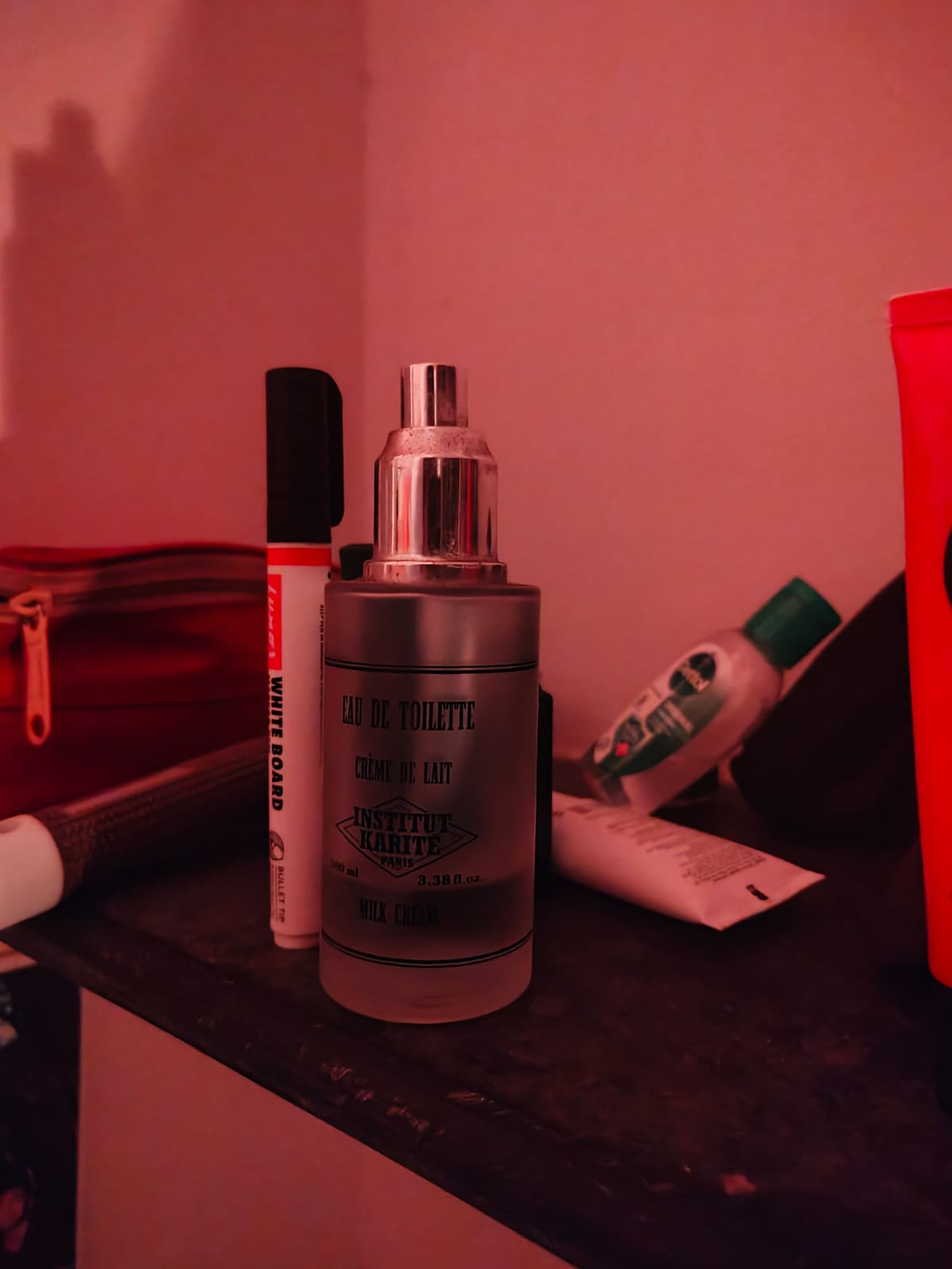case: (246, 358, 349, 963)
